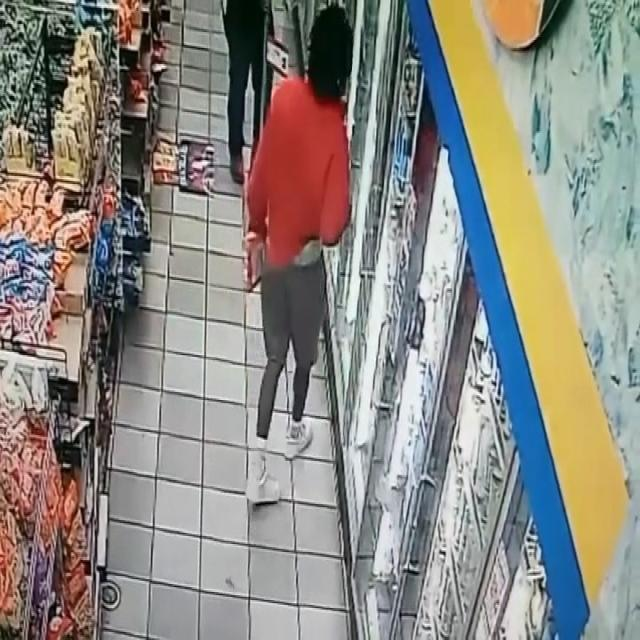normal: (238, 0, 356, 516)
